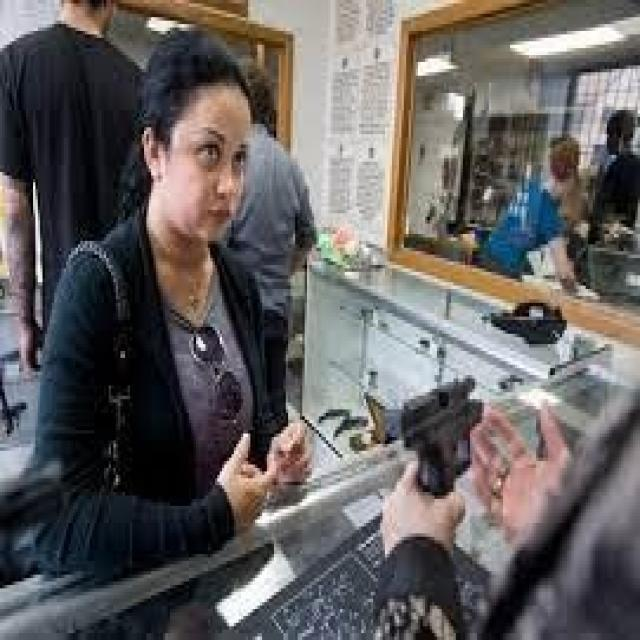gun: (400, 371, 482, 507)
